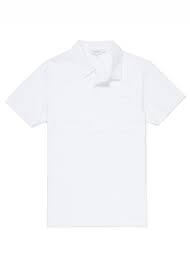C_polo shirt: (11, 51, 179, 229)
